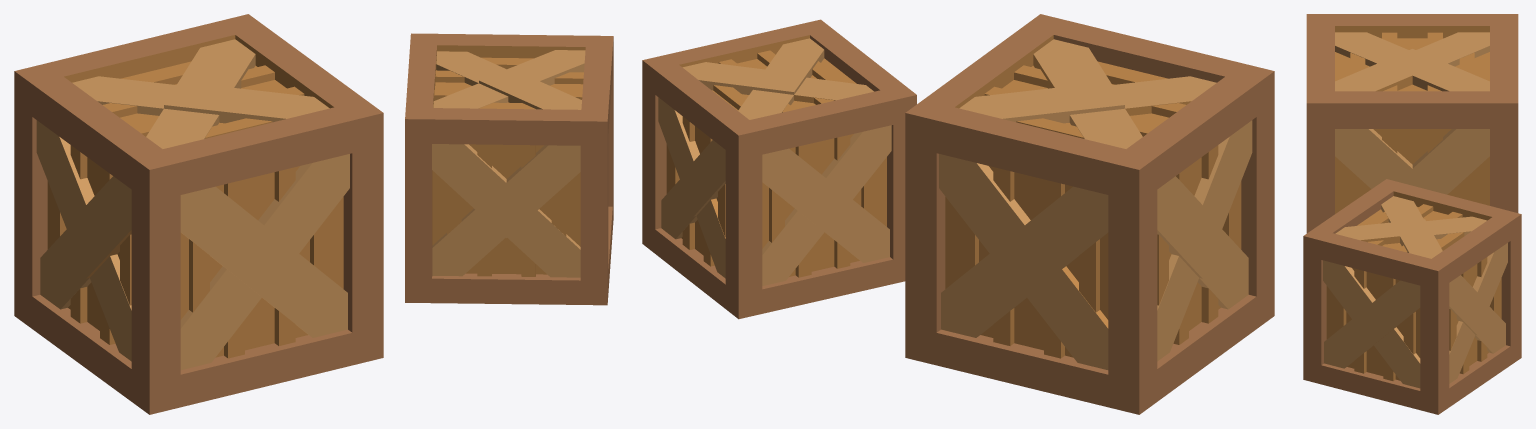
File: crate.glb
3 renders of one model, left to right at view 1: azimuth 30°, elevation 25°; view 2: azimuth 150°, elevation 25°; view 3: azimuth 270°, elevation 25°, orthographic. The views are drawn at different scales.
Visible parts, largest first — view 1: Crate, Crate_small; view 2: Crate, Crate_small; view 3: Crate_small, Crate.
Boxes of the visible parts, <box> form: Crate: <box>14,14,383,414</box>; Crate_small: <box>405,33,613,305</box>; Crate: <box>905,14,1274,414</box>; Crate_small: <box>642,19,916,319</box>; Crate_small: <box>1303,179,1521,414</box>; Crate: <box>1306,14,1518,233</box>.
Bounding box in the file's own units: 2.34 × 1 × 1.03.
1 material, 1 textured.
